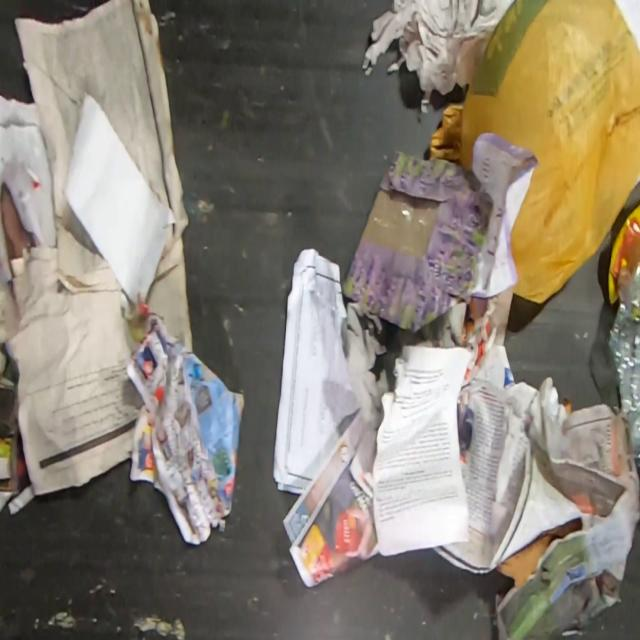cardboard: (340, 150, 492, 330), (498, 520, 581, 590), (0, 373, 18, 497)
rigid_plastic: (608, 265, 640, 461)
soft_plastic: (425, 1, 640, 304), (608, 204, 639, 303)
